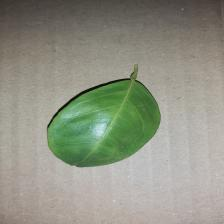greening: (40, 60, 167, 171)
